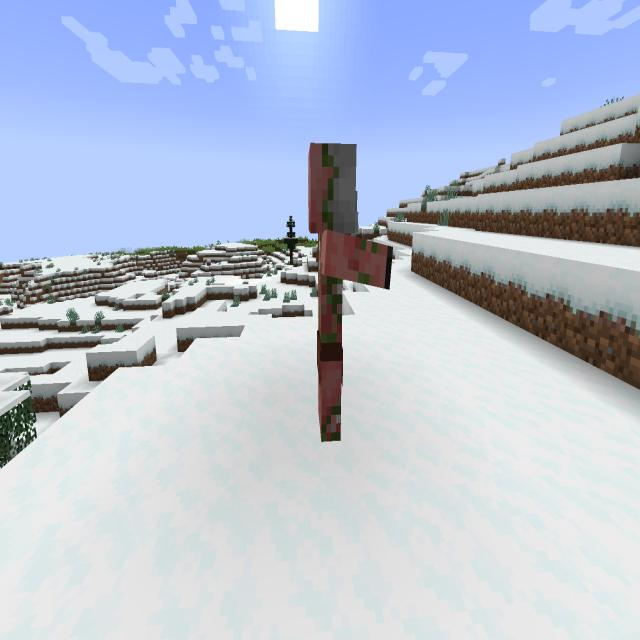Zombified Piglin: (296, 129, 402, 463)
